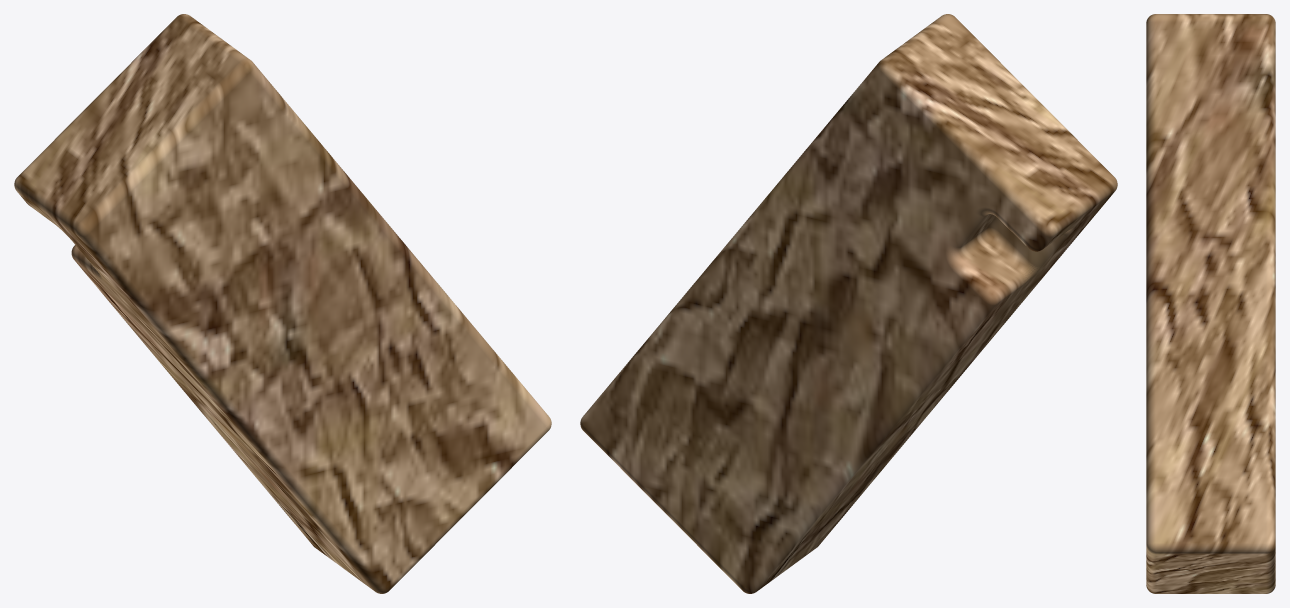
File: Auditorio.obj
3 renders of one model, left to right at view 1: azimuth 30°, elevation 25°; view 2: azimuth 150°, elevation 25°; view 3: azimuth 270°, elevation 25°, orthographic. The views are drawn at different scales.
Parts seen in each view (by area): view 1: Object.1; view 2: Object.1; view 3: Object.1.
Boxes of the visible parts, x1,y1,x2,y2 form: Object.1: (14, 14, 551, 593); Object.1: (580, 14, 1117, 593); Object.1: (1146, 14, 1275, 593).
Size of the model in its own units: 15417 by 17630 by 4000.
1 material, 1 textured.
